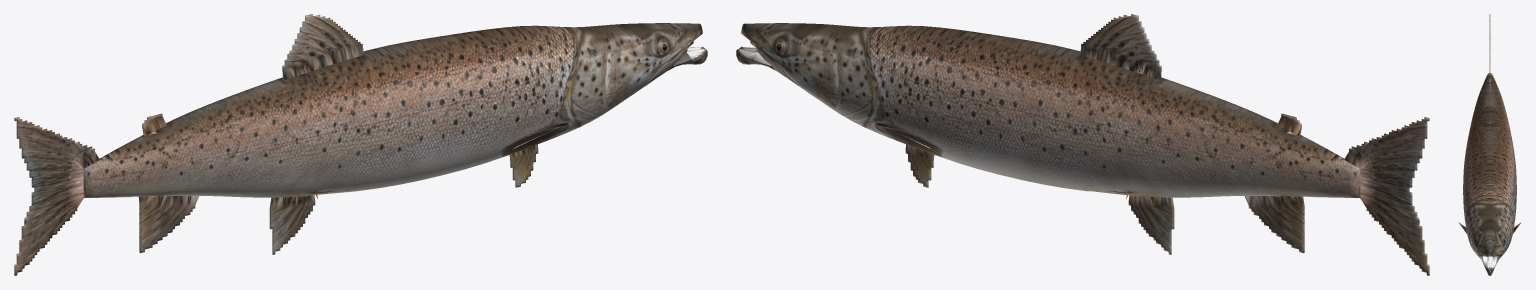
File: huchen.glb
3 renders of one model, left to right at view 1: azimuth 30°, elevation 25°; view 2: azimuth 150°, elevation 25°; view 3: azimuth 270°, elevation 25°, orthographic. The views are drawn at different scales.
Parts seen in each view (by area): view 1: huchen_realistic; view 2: huchen_realistic; view 3: huchen_realistic.
Part boxes in pixels (x1,y1,x2,y2): huchen_realistic: (14,14,707,275); huchen_realistic: (736,14,1429,275); huchen_realistic: (1459,14,1520,275).
Size of the model in its own units: 1 by 0.3183 by 0.1347.
Materials: 3 (3 with a texture image).
